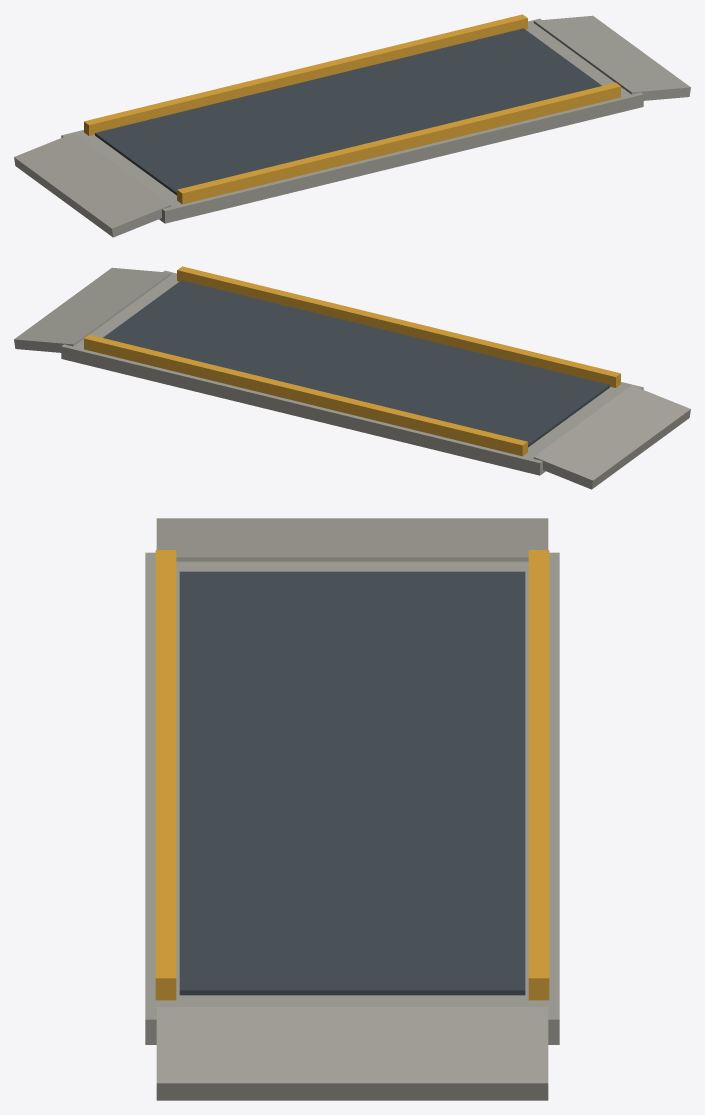
Rendered from weighbridge.glb.
The picture shows the model from 3 angles, top to bottom: view 1: azimuth 30°, elevation 25°; view 2: azimuth 150°, elevation 25°; view 3: azimuth 270°, elevation 25°; orthographic projection. The views are drawn at different scales.
Parts seen in each view (by area): view 1: weighbridge; view 2: weighbridge; view 3: weighbridge.
Boxes of the visible parts, left/top/right/bottom form: weighbridge: left=14, top=14, right=690, bottom=237; weighbridge: left=14, top=266, right=690, bottom=489; weighbridge: left=145, top=518, right=559, bottom=1100.
Size of the model in its own units: 11.61 by 0.5287 by 3.6.
